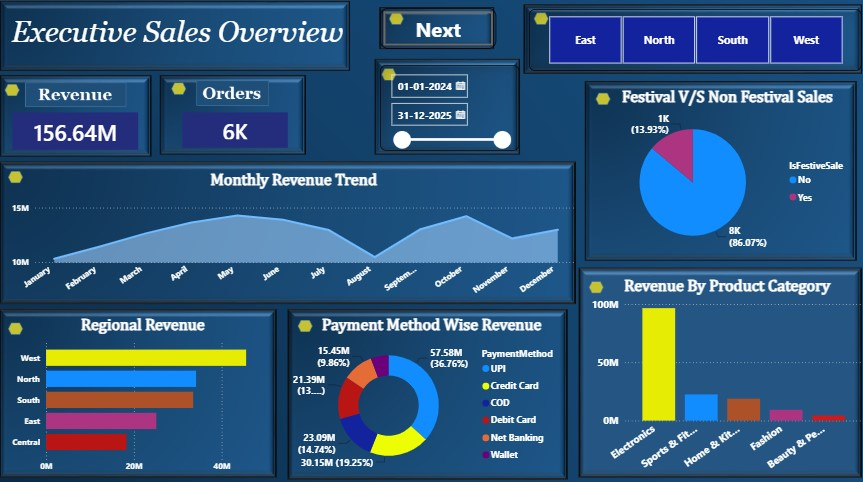

This screenshot's page, from the dashboard's own definition file:
{"tool":"powerbi","page":{"name":"Page 1","canvas":[1280,720],"ordinal":0},"visuals":[{"type":"cardVisual","fields":{"Data":["Fact_Orders.Revenue"]},"box":[19.8,163,195.6,65.2],"z":0},{"type":"cardVisual","fields":{"Data":["Fact_Orders.Total Orders"]},"box":[269.3,163,165.8,62.4],"z":1000},{"type":"areaChart","title":"Monthly Revenue Trend","fields":{"Category":["Fact_Orders.DeliveryDate.Variation.Date Hierarchy.Month"],"Y":["Sum(Fact_Orders.Total Bill)"]},"box":[17,253.7,840.5,192.8],"z":2000},{"type":"clusteredColumnChart","title":"Revenue By Product Category","fields":{"Y":["Sum(Fact_Orders.Total Bill)"],"Category":["Dim_Products.Category"]},"box":[870.2,411,409.6,296.2],"z":3000},{"type":"clusteredBarChart","title":"Regional Revenue ","fields":{"Category":["Dim_Customers.Region"],"Y":["Sum(Fact_Orders.Total Bill)"]},"box":[17,467.7,396.9,239.5],"z":4000},{"type":"textbox","box":[17,21.3,569.8,78.5],"z":5000},{"type":"actionButton","box":[564.4,15.1,171.3,60.5],"z":6000},{"type":"donutChart","title":"Payment Method Wise Revenue","fields":{"Category":["Fact_Orders.PaymentMethod"],"Y":["Sum(Fact_Orders.Total Bill)"]},"box":[435.1,467.7,411,239.5],"z":7000},{"type":"pieChart","title":"Festival V/S Non Festival Sales","fields":{"Category":["Dim_Date.IsFestiveSale"],"Y":["Sum(Fact_Orders.Quantity)"]},"box":[877.3,131.8,395.4,253.7],"z":8000},{"type":"slicer","fields":{"Values":["Dim_Date.Date"]},"box":[564.4,99.1,204.9,126],"z":9000},{"type":"slicer","fields":{"Values":["Dim_Warehouse.Region"]},"box":[783.8,15.6,489,90.7],"z":10000}]}

Visuals, with their boxes in screenshot pixels (x1, y1, x2, y2), scaled from the page's 1280x720 canvas onto the 863x482 screenshot:
cardVisual - Fact_Orders.Revenue: Rect(13, 109, 145, 153)
cardVisual - Fact_Orders.Total Orders: Rect(182, 109, 293, 151)
"Monthly Revenue Trend" areaChart: Rect(11, 170, 578, 299)
"Revenue By Product Category" clusteredColumnChart: Rect(587, 275, 862, 473)
"Regional Revenue " clusteredBarChart: Rect(11, 313, 279, 473)
textbox: Rect(11, 14, 396, 67)
actionButton: Rect(381, 10, 496, 51)
"Payment Method Wise Revenue" donutChart: Rect(293, 313, 570, 473)
"Festival V/S Non Festival Sales" pieChart: Rect(591, 88, 858, 258)
slicer - Dim_Date.Date: Rect(381, 66, 519, 151)
slicer - Dim_Warehouse.Region: Rect(528, 10, 858, 71)
